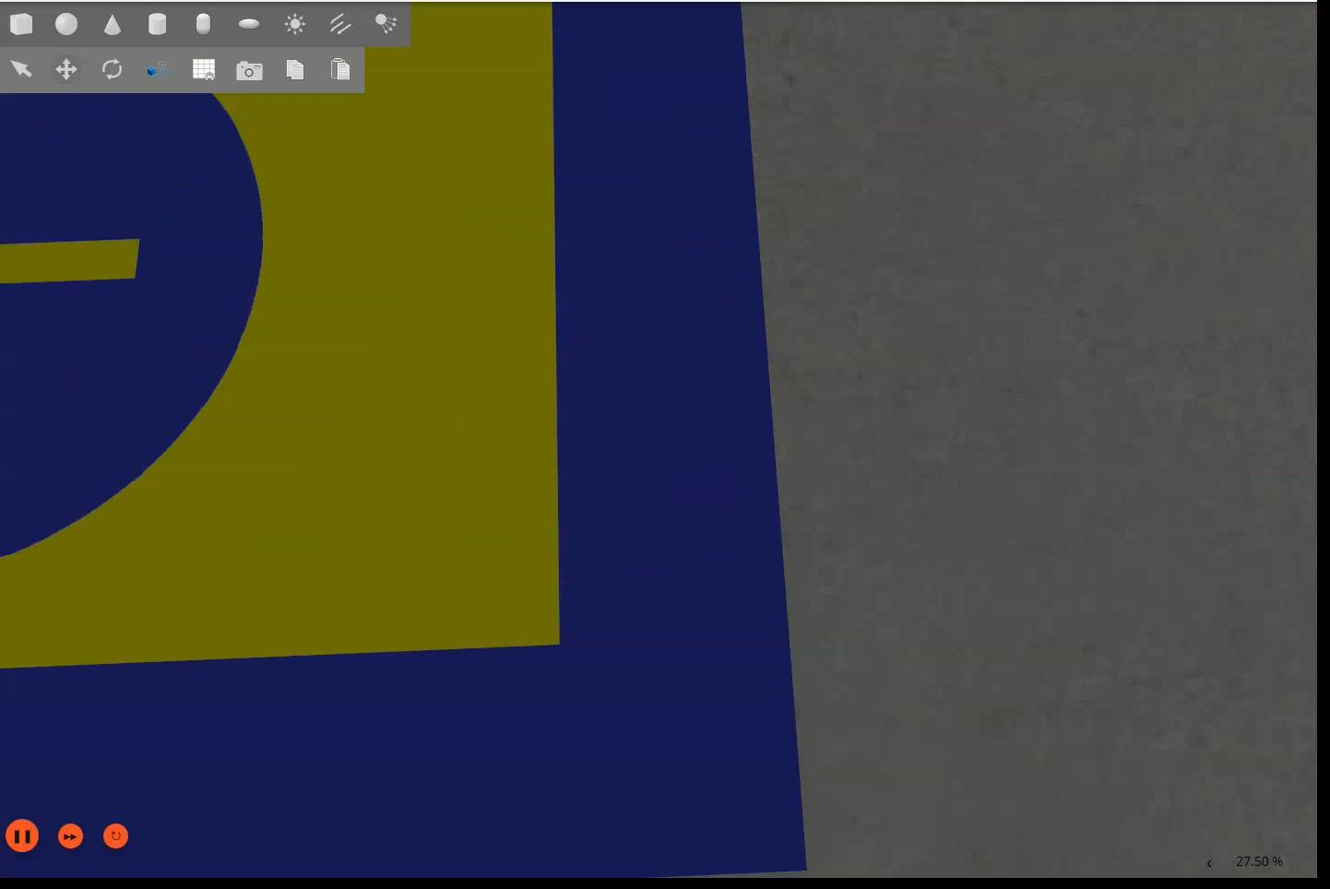large_base: (1, 1, 811, 880)
